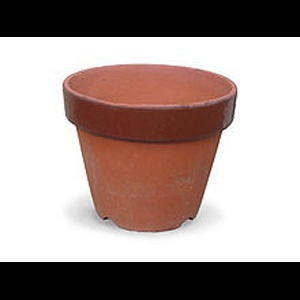flowerpot: (62, 62, 238, 232)
